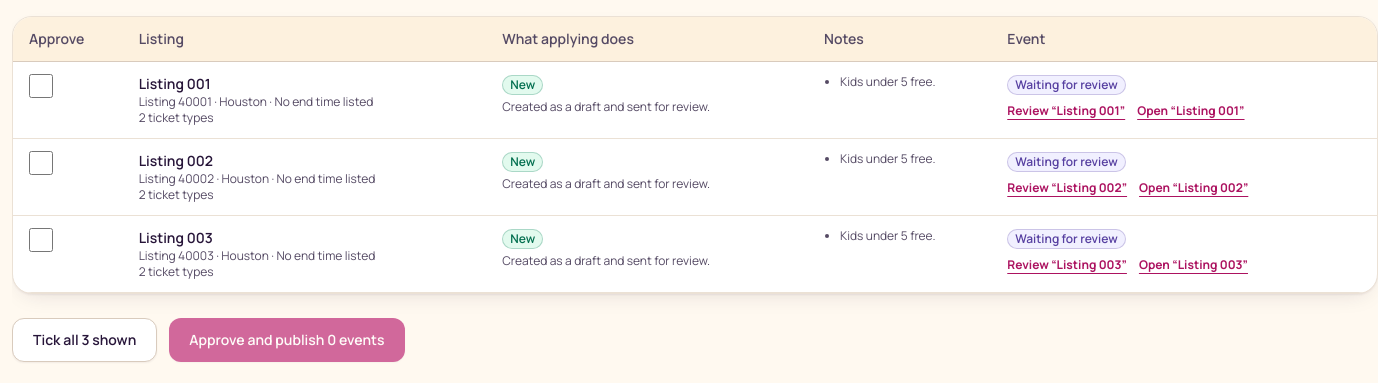
a run of many listings › unticks them all again
Expected: the button "Untick all" is not shown
Click the button "Tick all 3 shown" at [85, 340], box [12,318,157,362]
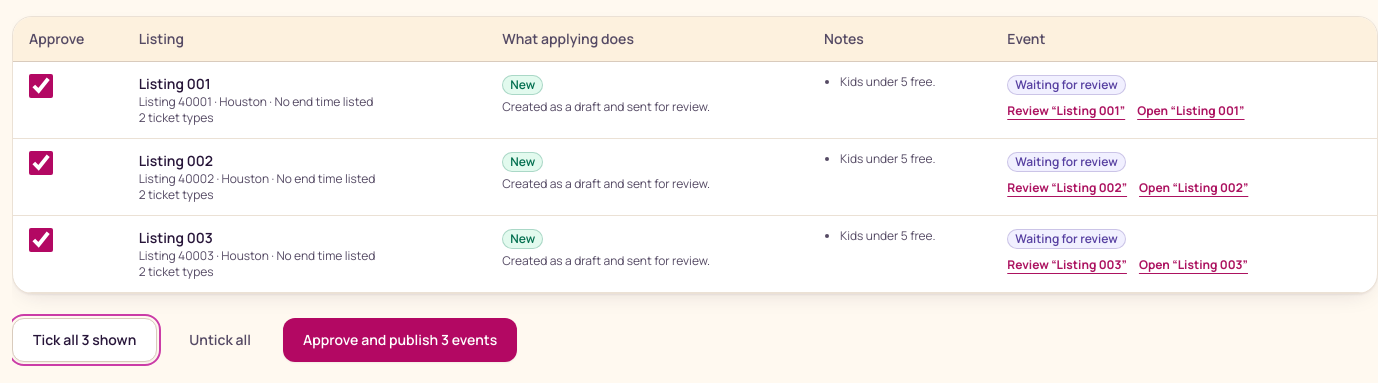
Click the button "Untick all" at [220, 340], box [169,318,271,362]
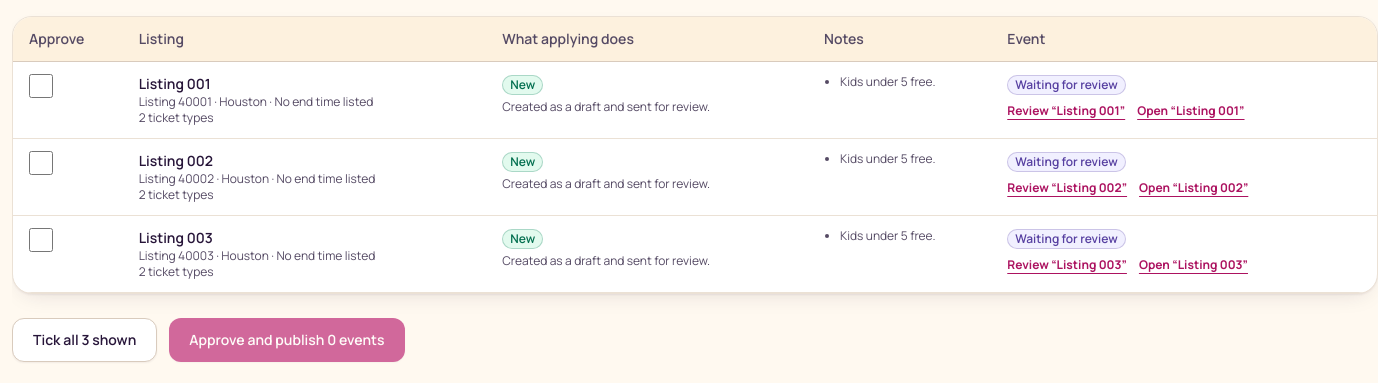
Expected: the checkbox named "Approve “Listing 001”" is not checked, [29,74,53,98]
Expected: the button "Approve and publish 0 events" is disabled, [169,318,404,362]
